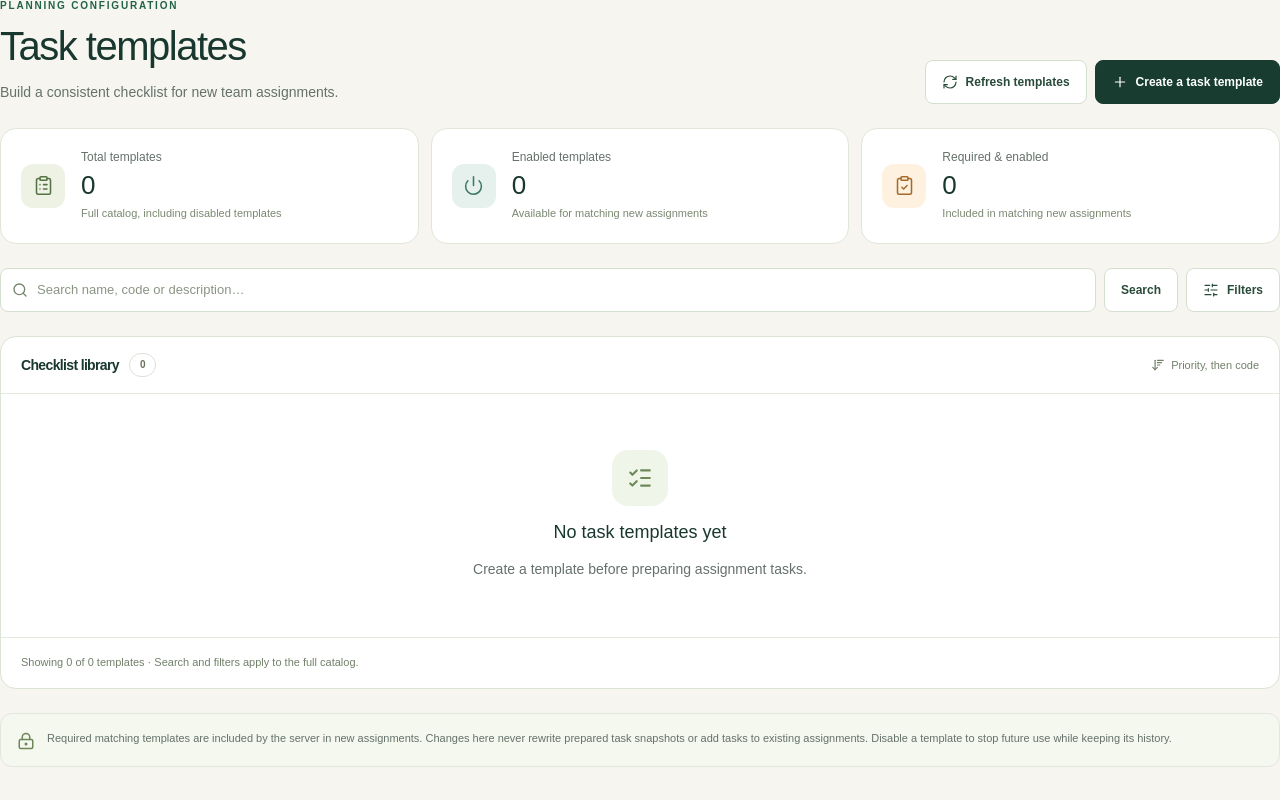
Test: task template management › prevents duplicate creation while the first submission is pending
Check: the heading "No task templates yet" is shown, box [554,518,727,546]
Click the button "Create a task template" at (1187, 82), box [1095,60,1279,104]
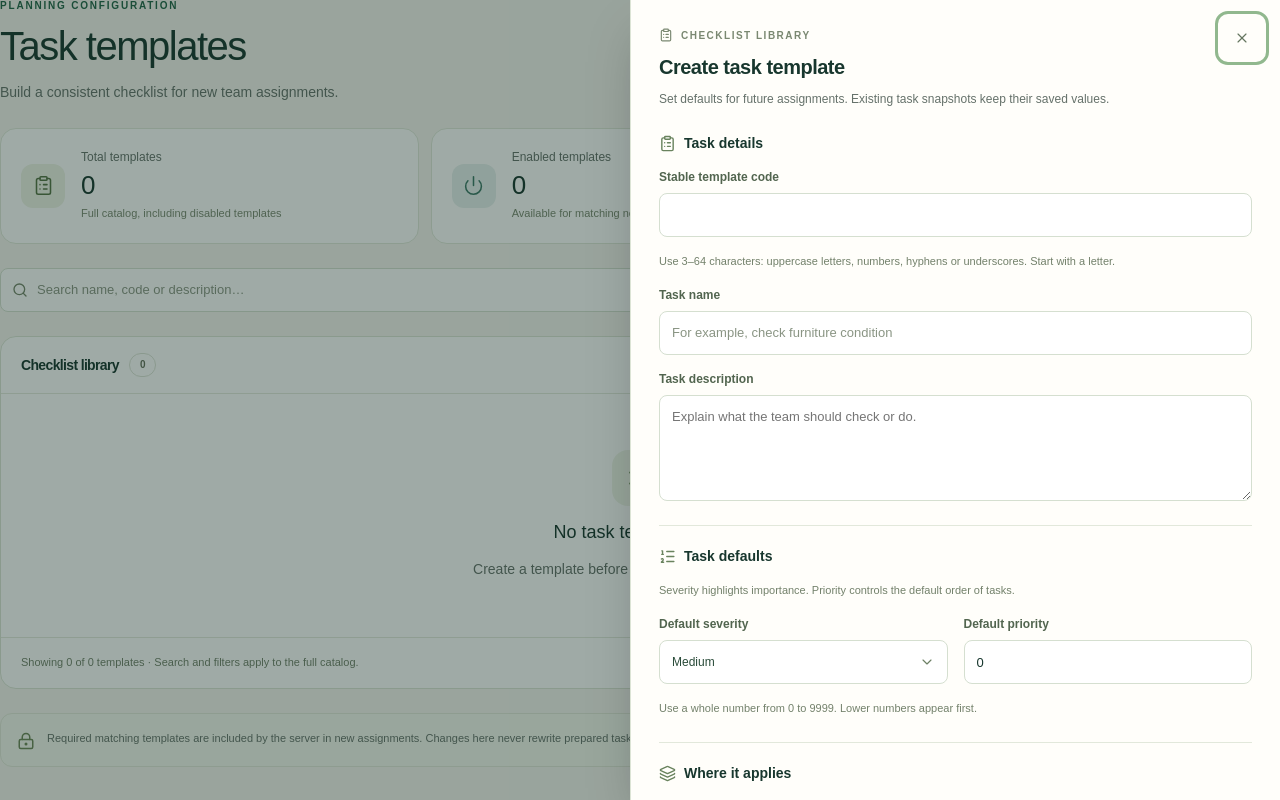
Type "NEW-TASK" into the field labelled "Stable template code" at (956, 215), box [659,193,1252,237]
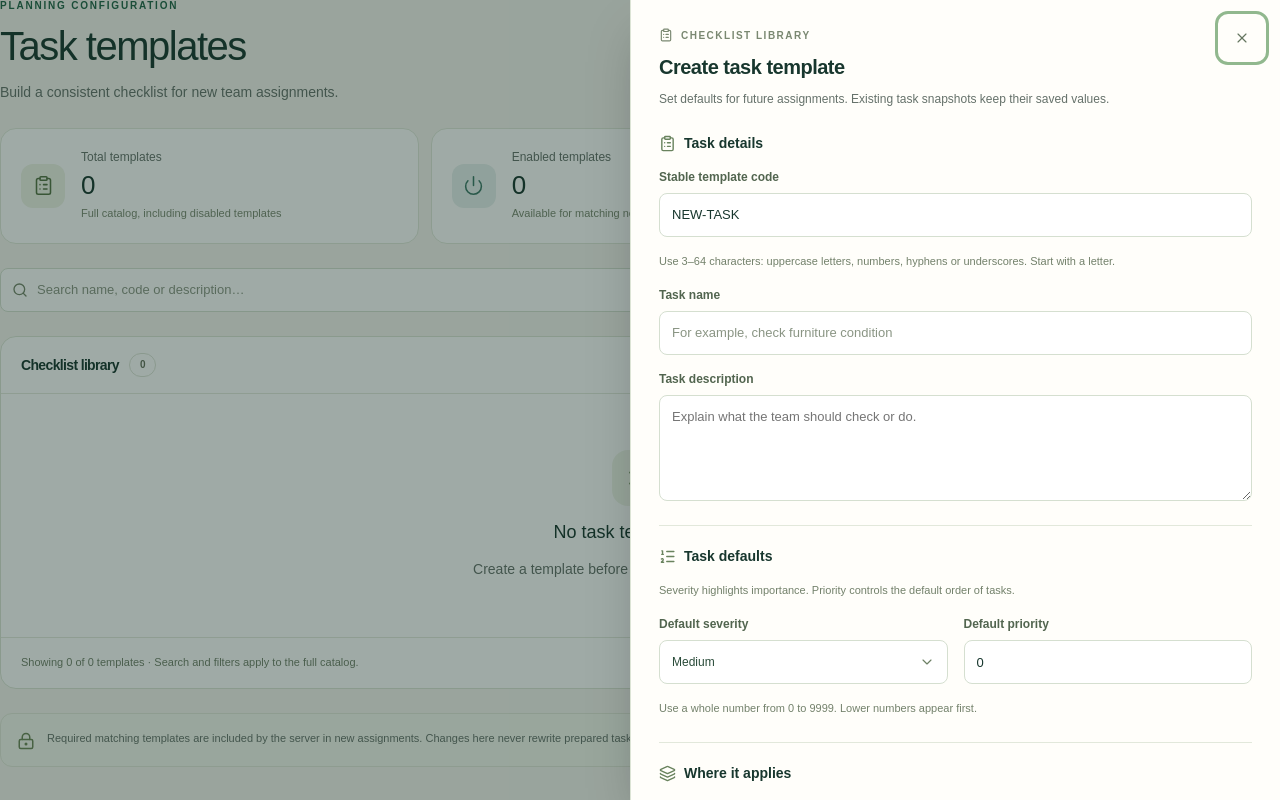
Type "New task" into the field labelled "Task name" at (956, 333), box [659,311,1252,355]
(page scrolled)
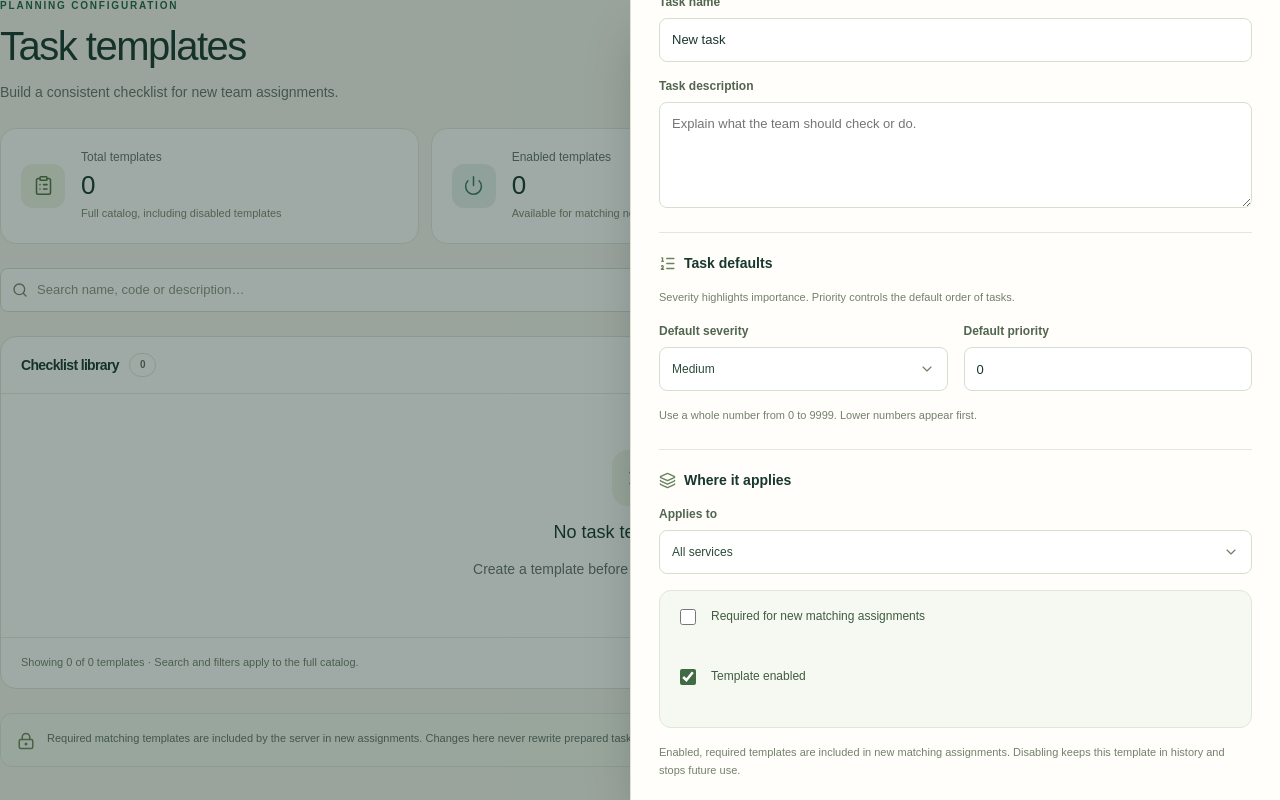
Submit the form named "Create task template"
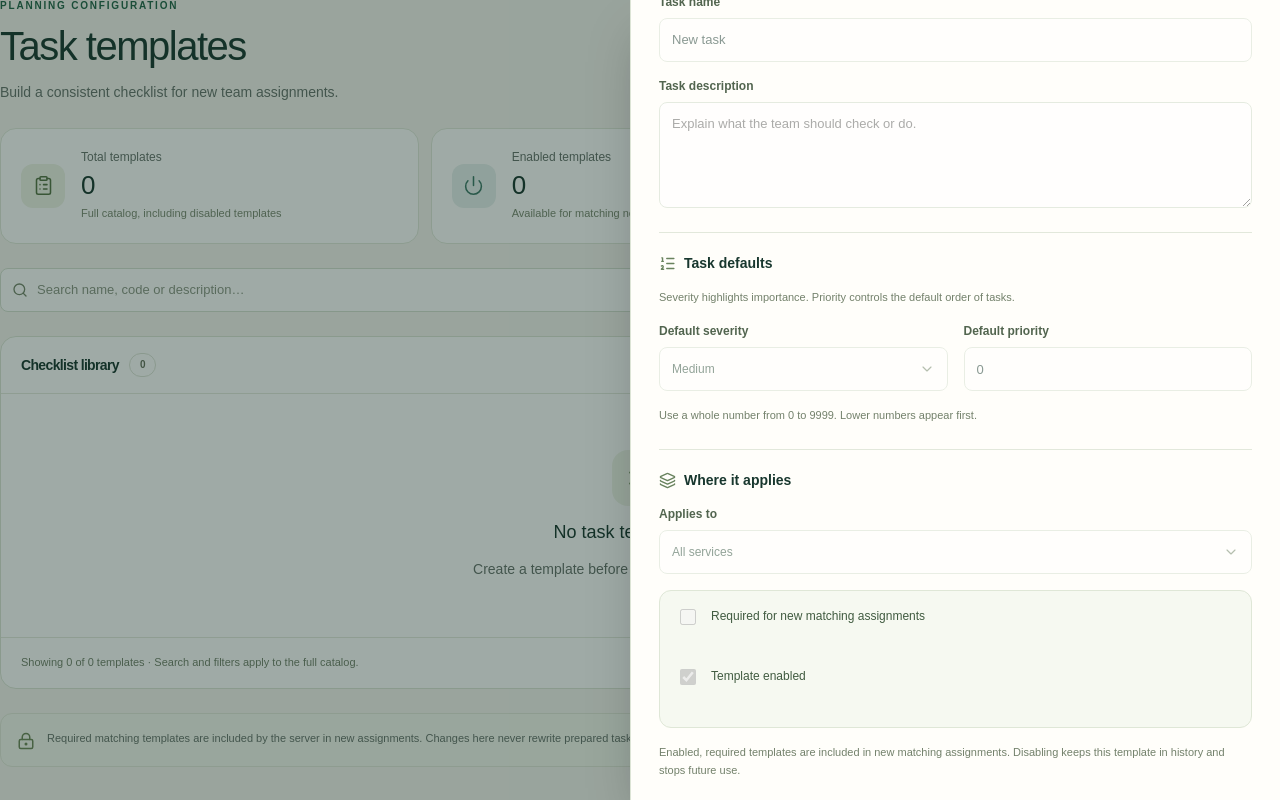
Submit the form named "Create task template"
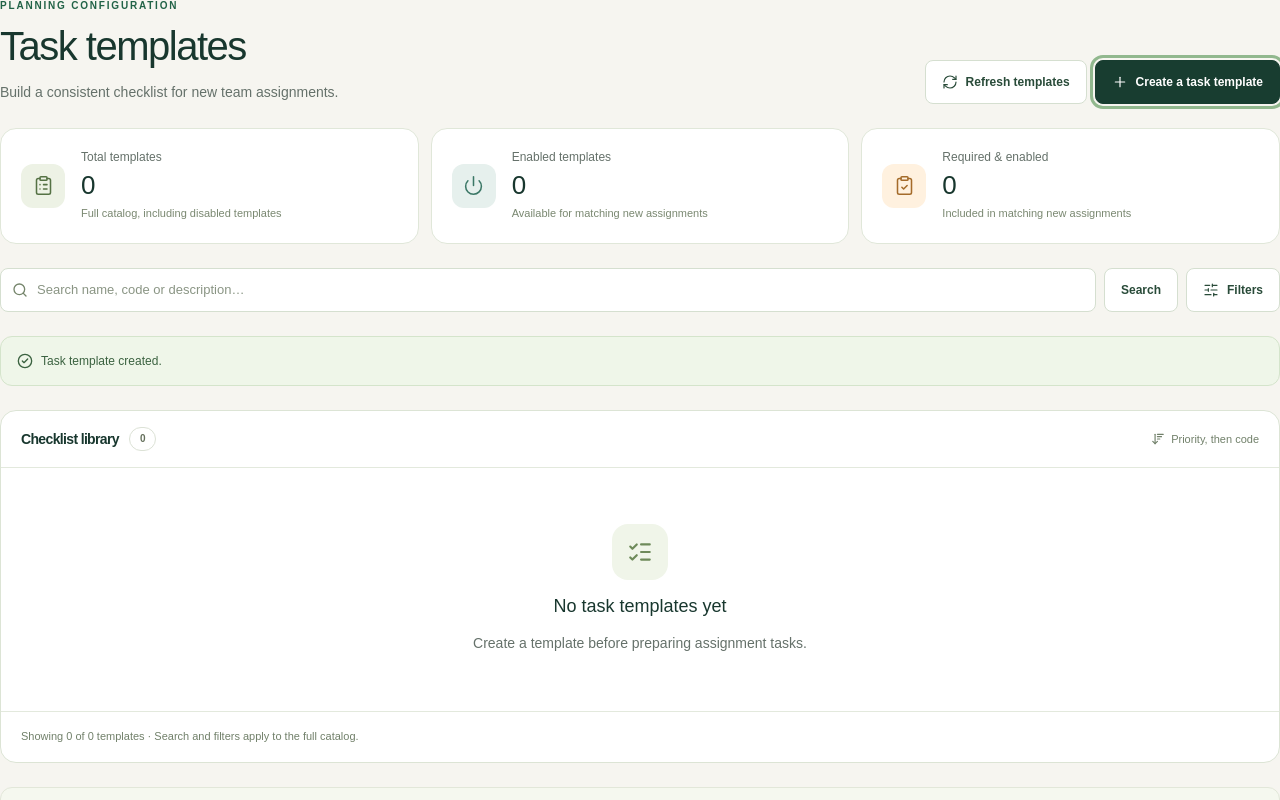
Check: the text "Task template created." is shown, box [0,336,1279,386]
